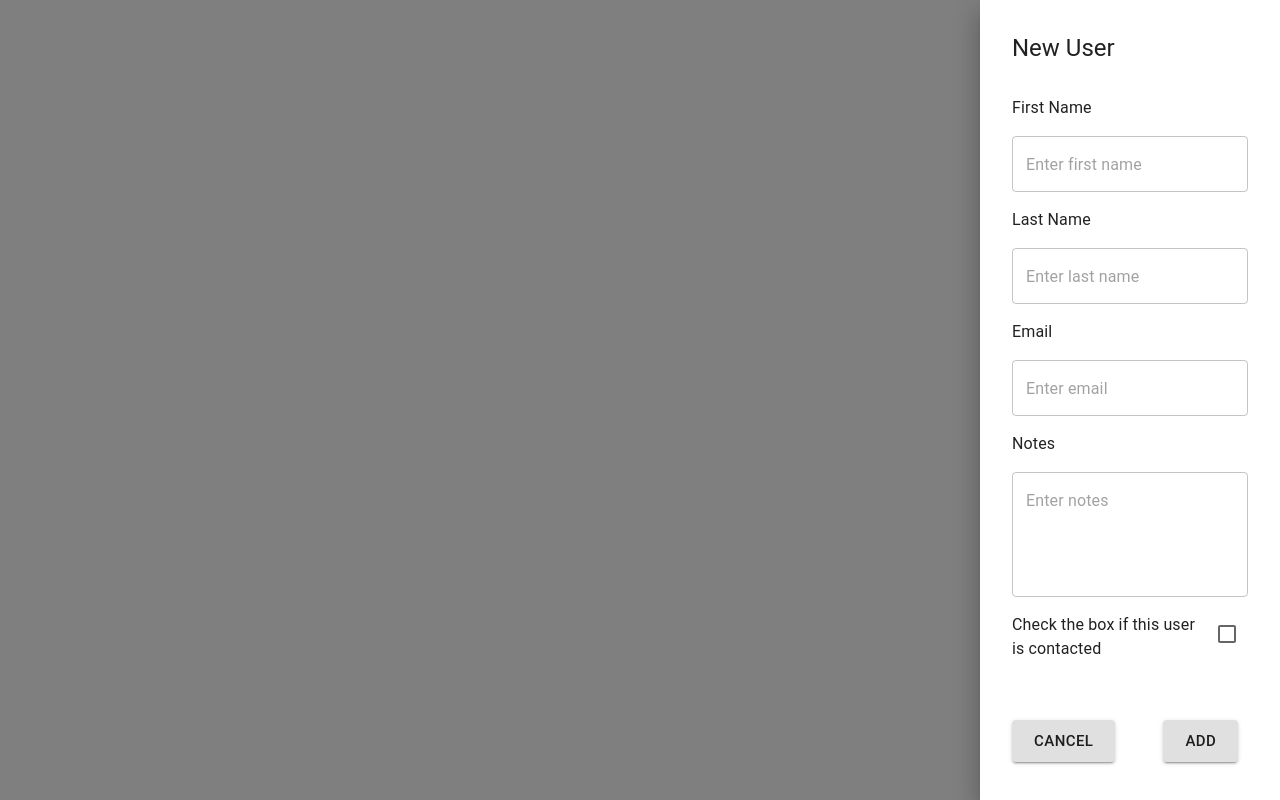
Test: add new user drawer › 1 warning message should displayed when submitting form with last name and email
Step 1. Type "Chow" into the field with placeholder "Enter last name" → (1130, 276), box [1012,248,1248,304]
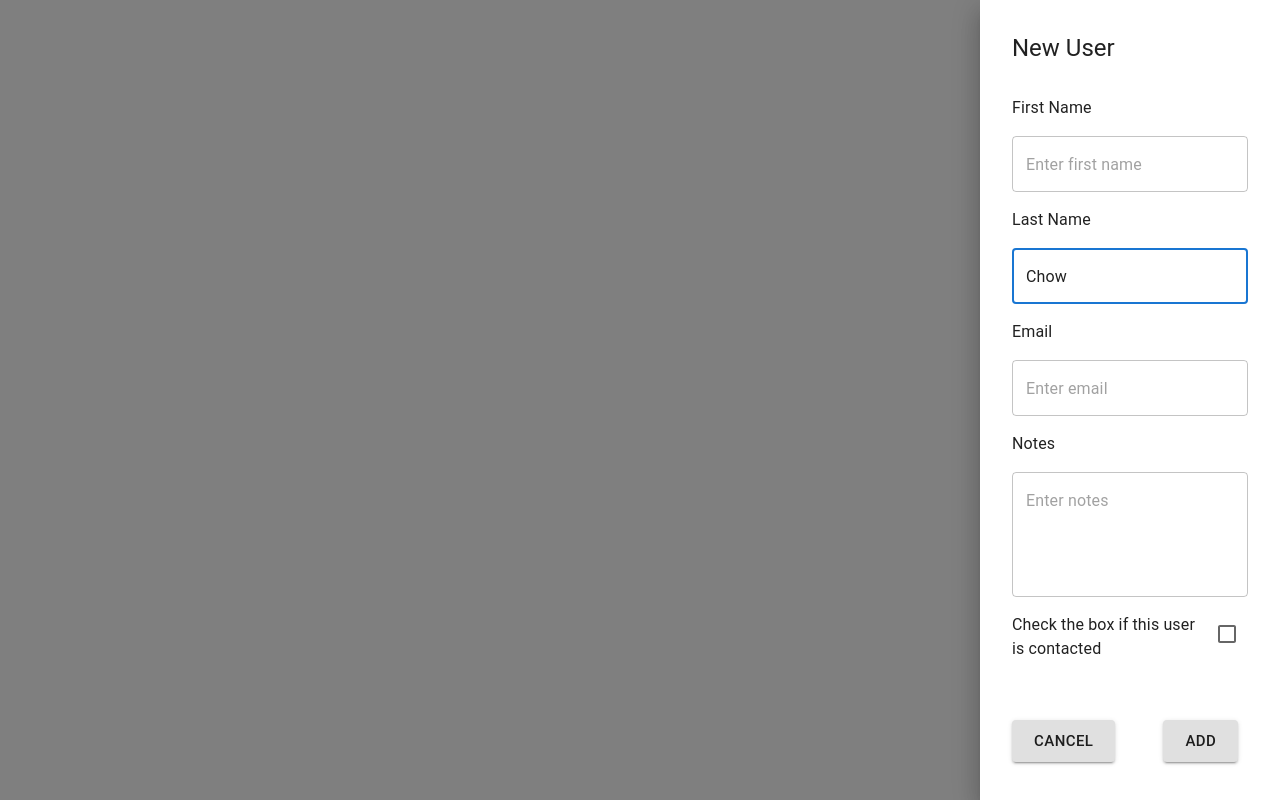
Step 2. Type "test@test.com" into the field with placeholder "Enter email" → (1130, 388), box [1012,360,1248,416]
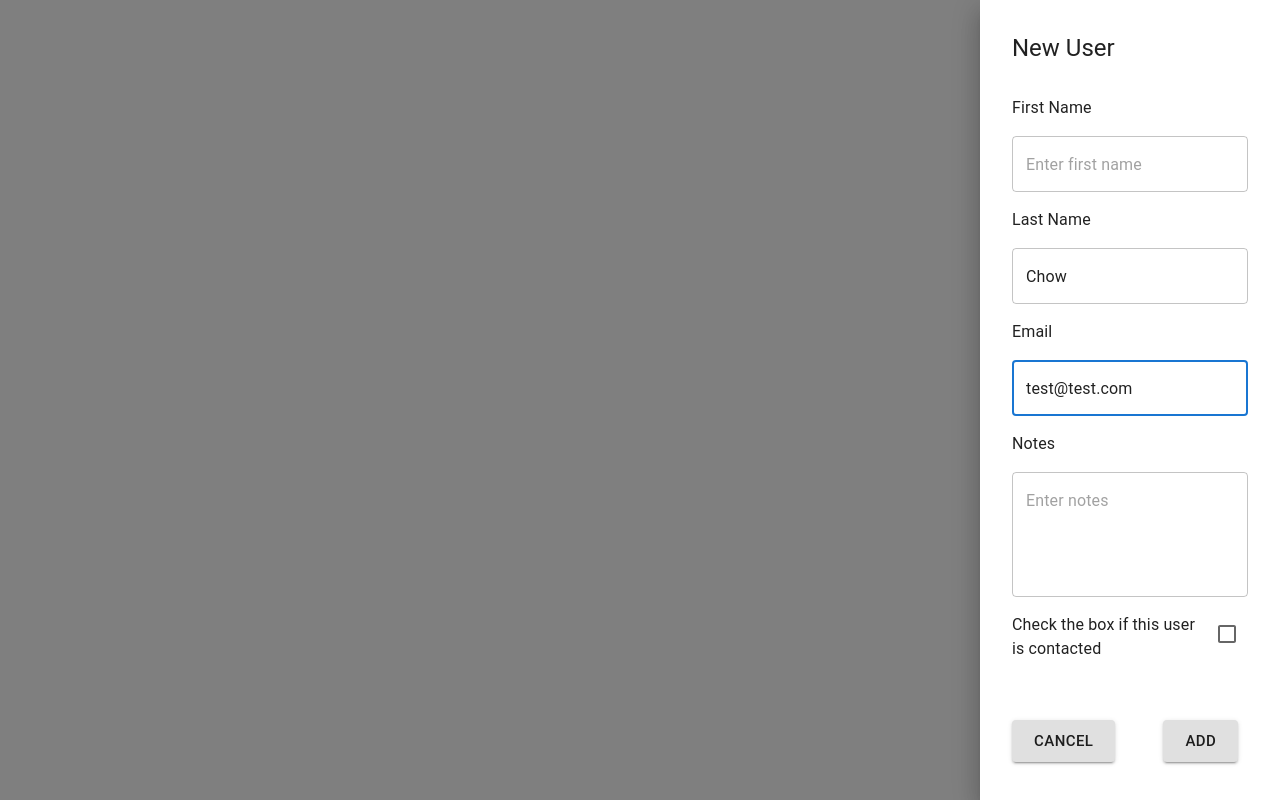
Step 3. Click the button with test id "add-new-user-button" → (1201, 741), box [1163,720,1238,762]
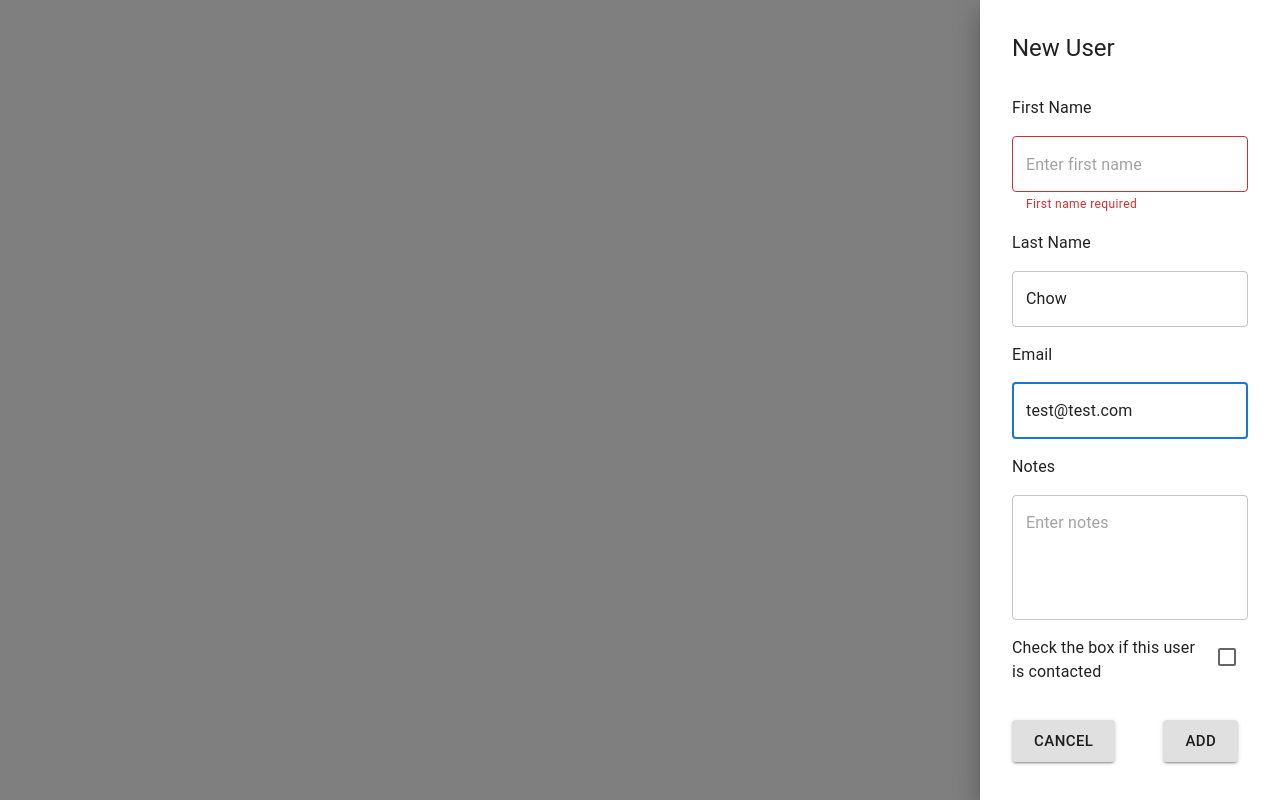
Expected: the text "First name required" is shown, [1026,197,1137,211]
